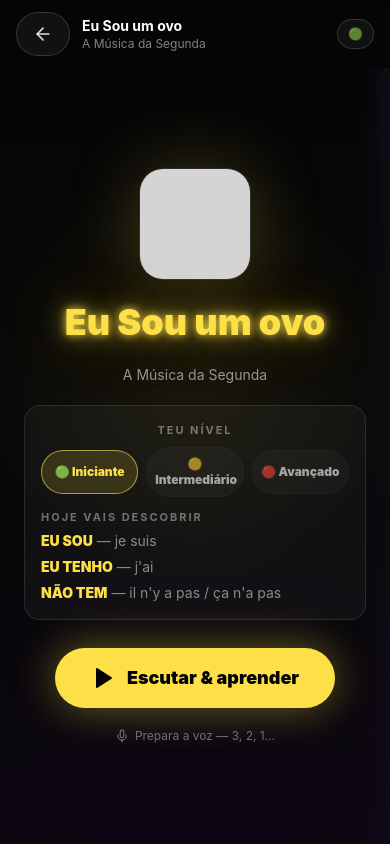
Test: KaraokePlayer — learningMode (v2, niveaux + zone basse) › la mini-interaction accepte n'importe quel choix, sans mauvaise réponse
The width and height of the screenshot is (390, 844).
Step 1. Click the button "Escutar & aprender" → click(195, 678), box [55,648,335,708]
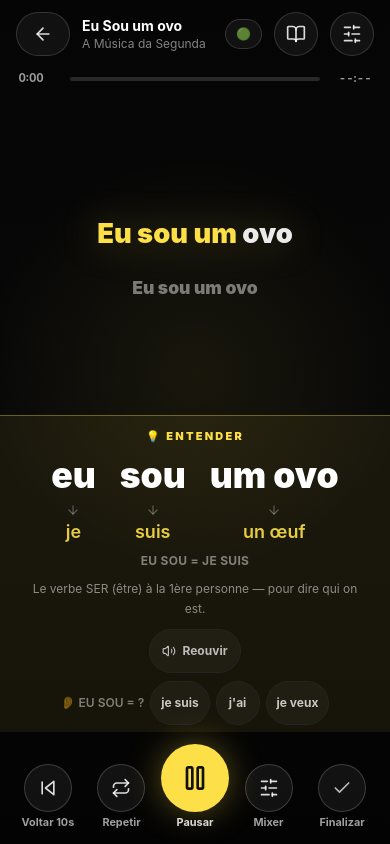
Check: the text "💡 Entender" is shown, box [146,428,244,444]
Step 2. Click the button "j'ai" → click(238, 703), box [216,681,260,725]
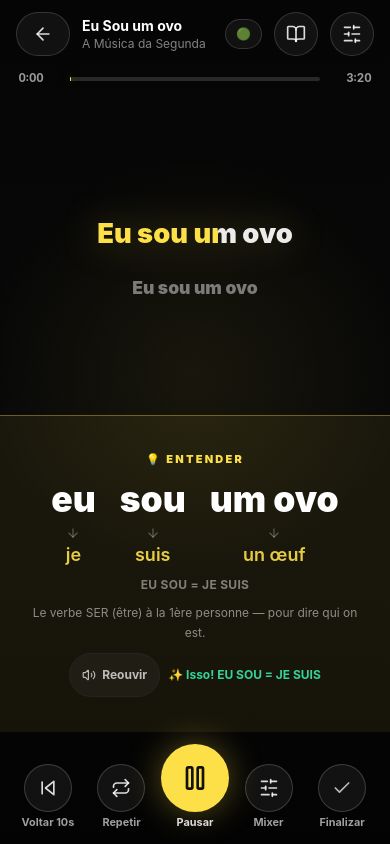
Check: the text "✨ Isso! EU SOU = JE SUIS" is shown, box [168,667,321,683]
